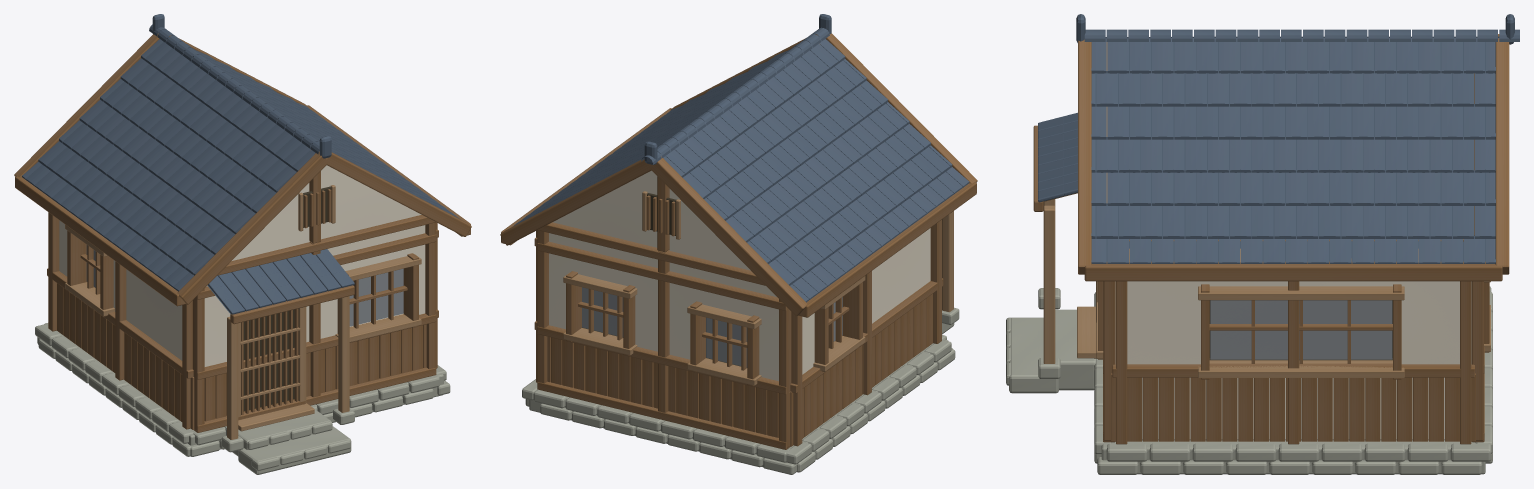
File: reference-house.glb
3 views of the same model, side by side, from view 1: azimuth 30°, elevation 25°; view 2: azimuth 150°, elevation 25°; view 3: azimuth 270°, elevation 25° (orthographic). The views are drawn at different scales.
Visible parts, largest first — view 1: House_slate_blue_ceramic, House_aged_warm_timber, House_foundation_stone, House_cut_timber, Wall volume, House_warm_lime_plaster, House_interior_shade, House_muted_blue_window_glass; view 2: House_aged_warm_timber, House_slate_blue_ceramic, Wall volume, House_foundation_stone, House_cut_timber, House_warm_lime_plaster, House_muted_blue_window_glass; view 3: House_slate_blue_ceramic, House_aged_warm_timber, House_foundation_stone, Wall volume, House_cut_timber, House_muted_blue_window_glass, House_tile_underside.
Part boxes in pixels (bbox=[...]): House_slate_blue_ceramic: bbox=[22, 14, 459, 314]; House_aged_warm_timber: bbox=[14, 33, 471, 432]; House_foundation_stone: bbox=[35, 323, 450, 474]; House_cut_timber: bbox=[65, 150, 421, 439]; Wall volume: bbox=[59, 220, 425, 366]; House_warm_lime_plaster: bbox=[232, 165, 421, 260]; House_interior_shade: bbox=[243, 186, 330, 411]; House_muted_blue_window_glass: bbox=[86, 245, 403, 326]; House_aged_warm_timber: bbox=[500, 33, 977, 449]; House_slate_blue_ceramic: bbox=[514, 14, 969, 302]; Wall volume: bbox=[549, 228, 930, 381]; House_foundation_stone: bbox=[522, 307, 959, 474]; House_cut_timber: bbox=[563, 85, 953, 385]; House_warm_lime_plaster: bbox=[553, 170, 750, 270]; House_muted_blue_window_glass: bbox=[582, 287, 842, 367]; House_slate_blue_ceramic: bbox=[1038, 14, 1519, 263]; House_aged_warm_timber: bbox=[1033, 34, 1509, 444]; House_foundation_stone: bbox=[1006, 286, 1492, 474]; Wall volume: bbox=[1115, 281, 1471, 440]; House_cut_timber: bbox=[1043, 42, 1490, 377]; House_muted_blue_window_glass: bbox=[1210, 300, 1392, 359]; House_tile_underside: bbox=[1095, 42, 1485, 261].
Bounding box in the file's own units: 5.69 × 5.46 × 6.69.
8 materials, 6 textured.
